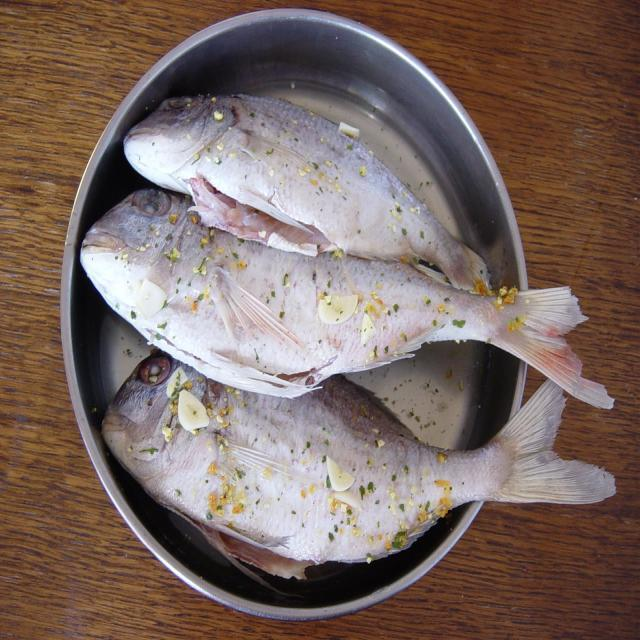fish: (80, 189, 608, 407), (101, 351, 612, 575), (124, 95, 488, 288)
